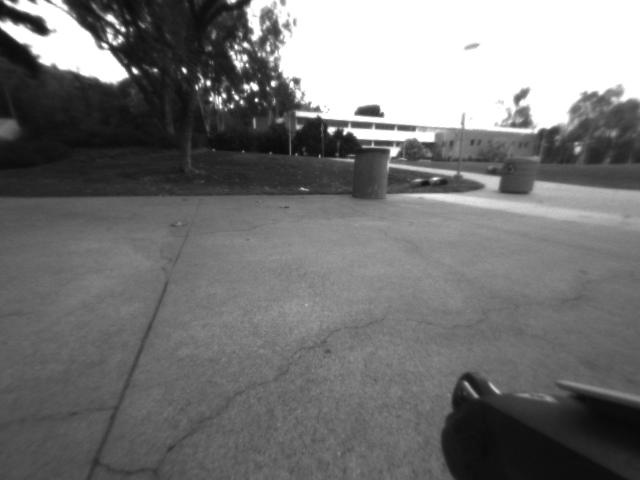trashcan: (352, 144, 390, 199), (505, 148, 541, 198)
